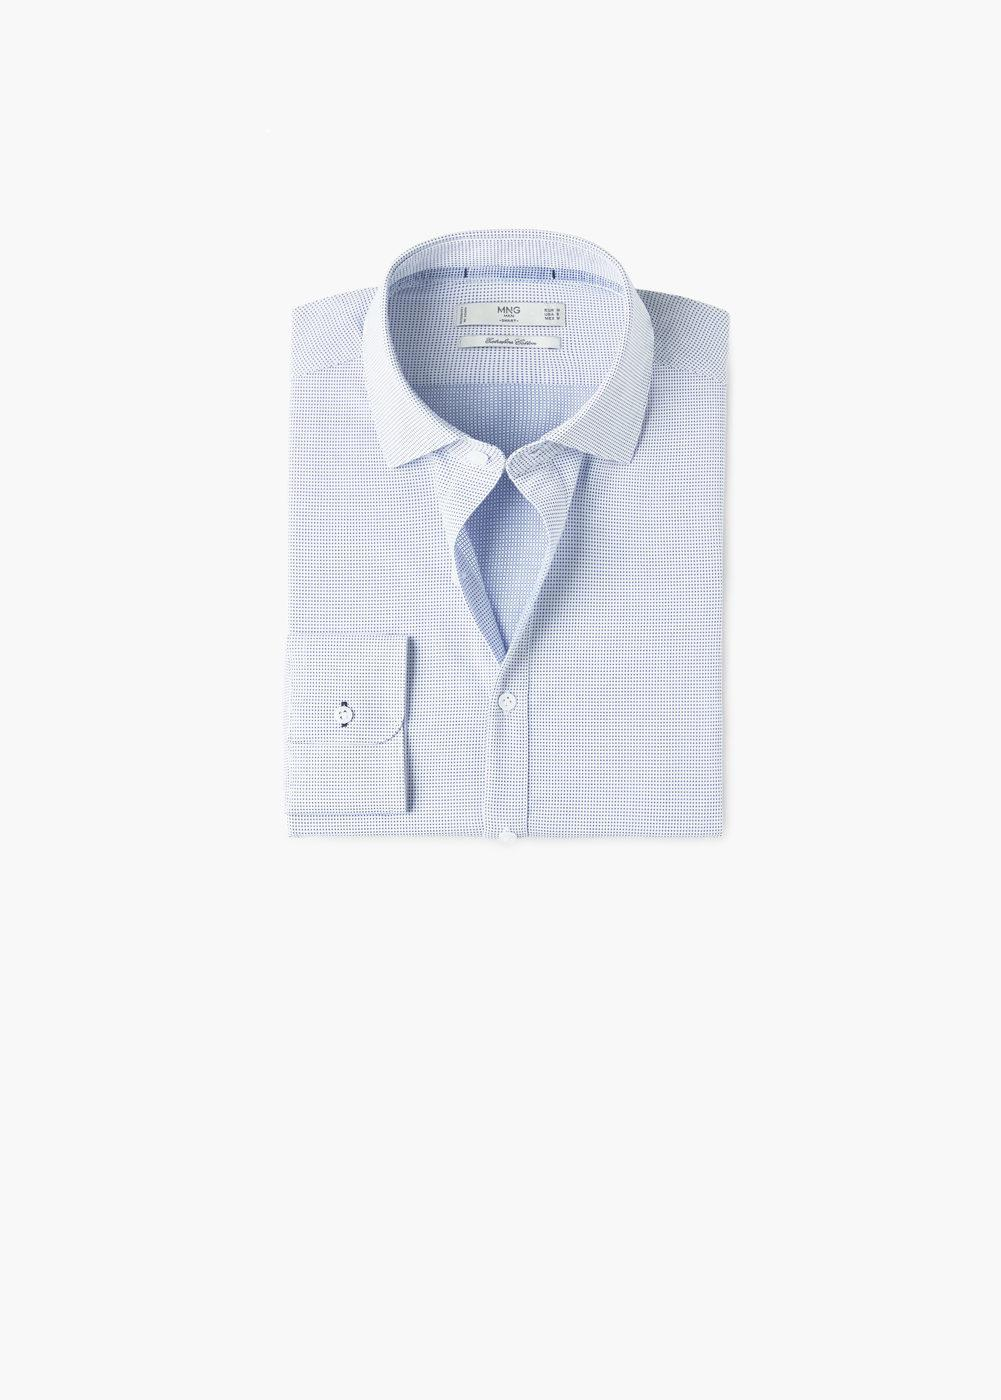teeshirt: (257, 221, 767, 852)
